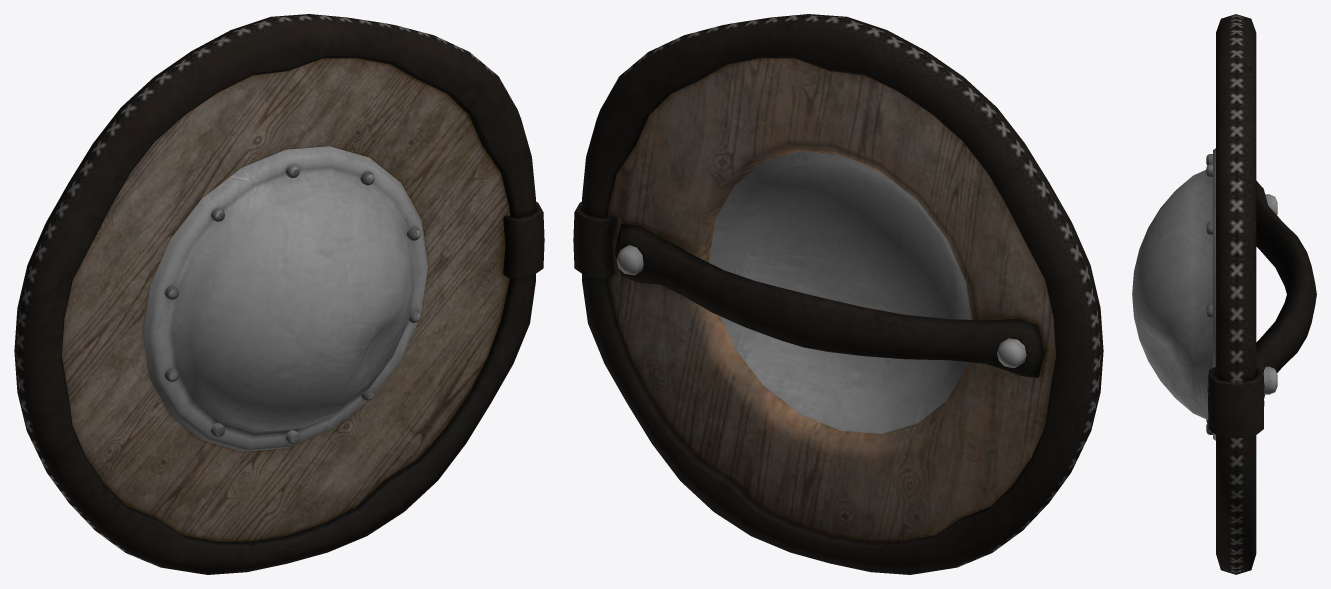
File: s_buckler.glb
3 views of the same model, side by side, from view 1: azimuth 30°, elevation 25°; view 2: azimuth 150°, elevation 25°; view 3: azimuth 270°, elevation 25° (orthographic). The views are drawn at different scales.
Parts seen in each view (by area): view 1: Buckler_lambert1_0; view 2: Buckler_lambert1_0; view 3: Buckler_lambert1_0.
Part boxes in pixels (bbox=[...]): Buckler_lambert1_0: bbox=[14, 14, 544, 574]; Buckler_lambert1_0: bbox=[573, 14, 1103, 574]; Buckler_lambert1_0: bbox=[1132, 14, 1316, 574].
Size of the model in its own units: 0.1017 by 0.1016 by 0.0337.
1 material, 1 textured.
